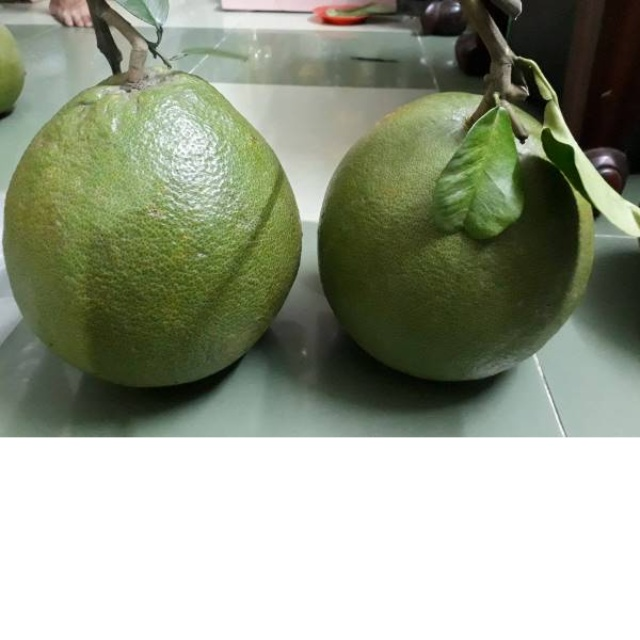buoi: (2, 64, 305, 390), (316, 90, 597, 383)
